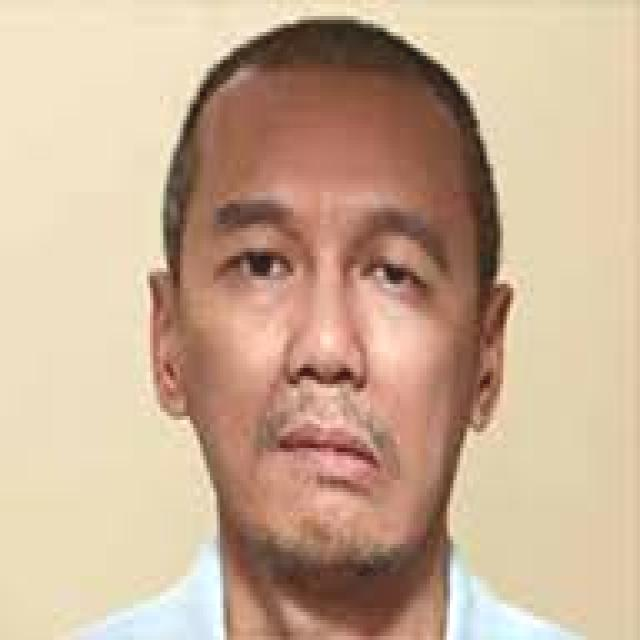stroke_face: (175, 64, 491, 590)
